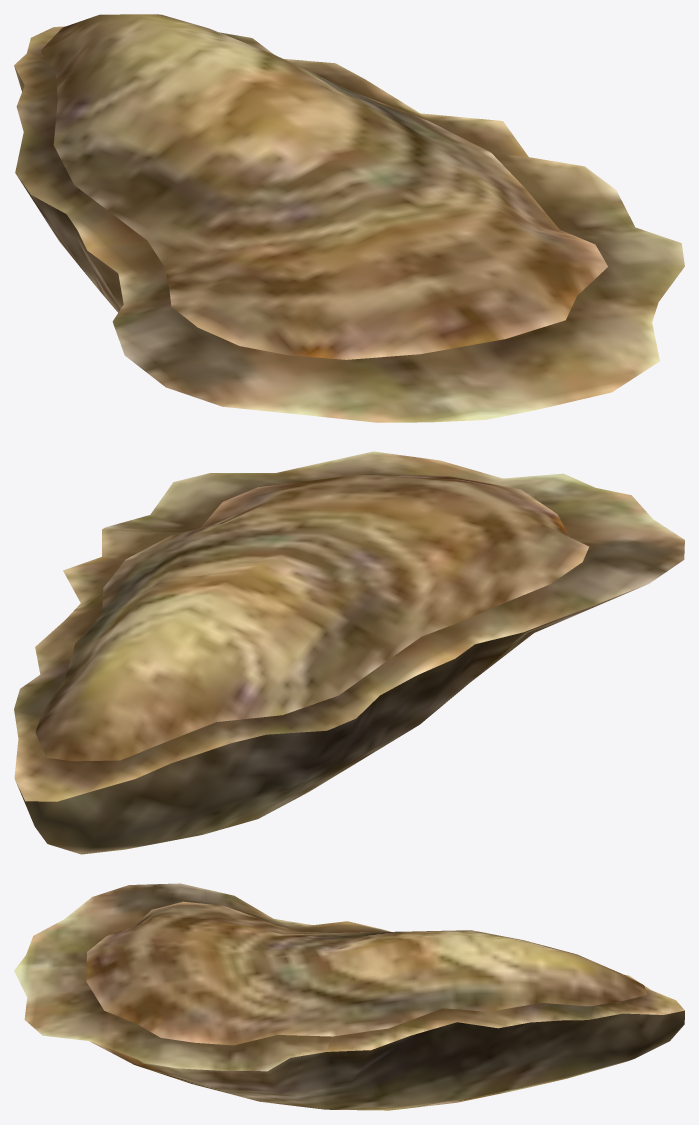
Rendered from oyster.glb.
3 renders of one model, top to bottom at view 1: azimuth 30°, elevation 25°; view 2: azimuth 150°, elevation 25°; view 3: azimuth 270°, elevation 25°, orthographic. The views are drawn at different scales.
Size of the model in its own units: 2.08 by 0.9637 by 3.4.
Materials: 1 (1 with a texture image).
